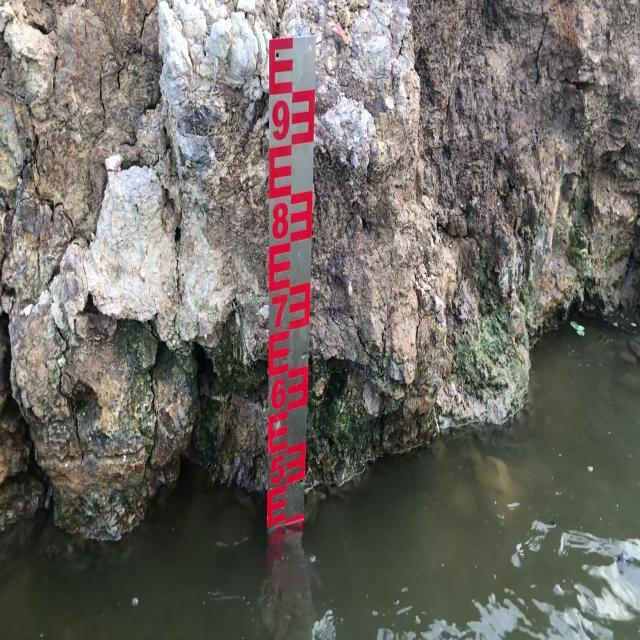ruler: (250, 22, 334, 538)
value: (267, 90, 295, 146), (267, 196, 294, 245), (270, 290, 291, 335), (268, 372, 290, 413), (269, 447, 288, 488)
